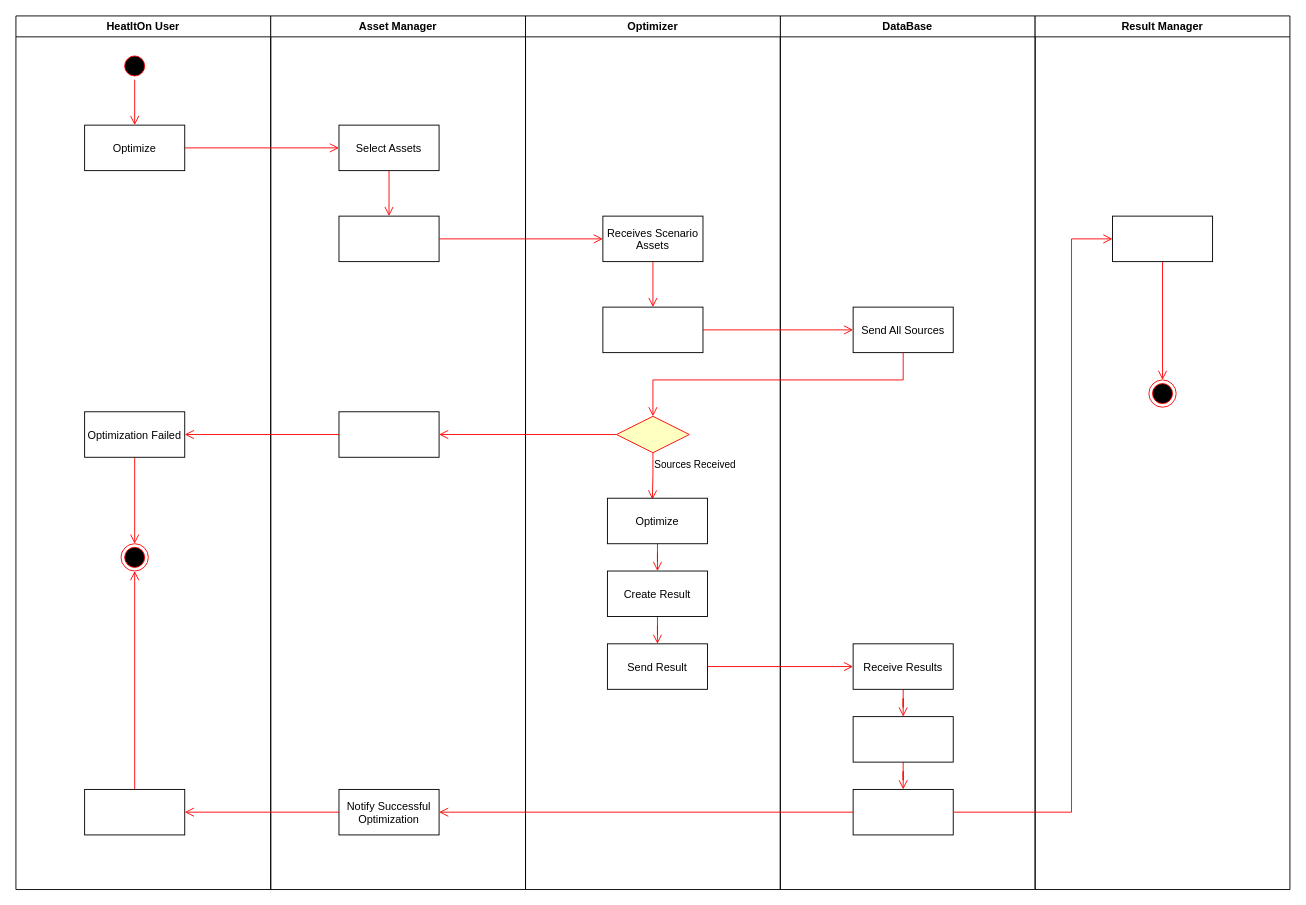
Some shapes in this 1306 by 905 pixel diagram are drawn without their labels. The centre of each missing label's shape, as x and y in pixels:
Ask for all Sources: pixel 652 329
Notify Failed Optimization: pixel 388 434
Notify Results Added: pixel 902 812
Optimization Succeded: pixel 134 812
Reload All Results: pixel 1162 238
Save Results: pixel 902 739
Sends Scenario Assets: pixel 388 238
